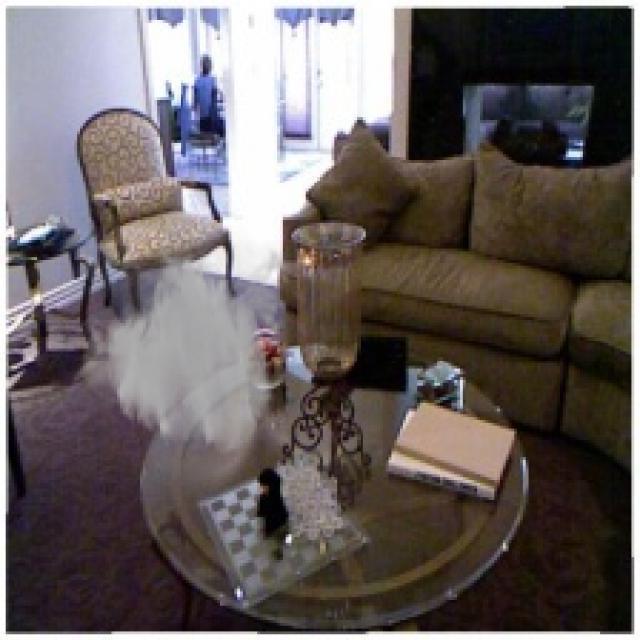Smoke: (74, 226, 297, 457)
